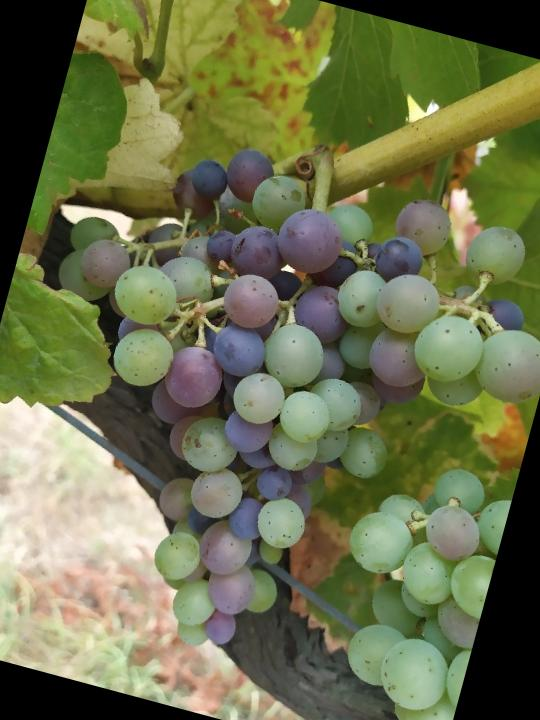grape: (0, 103, 540, 717)
